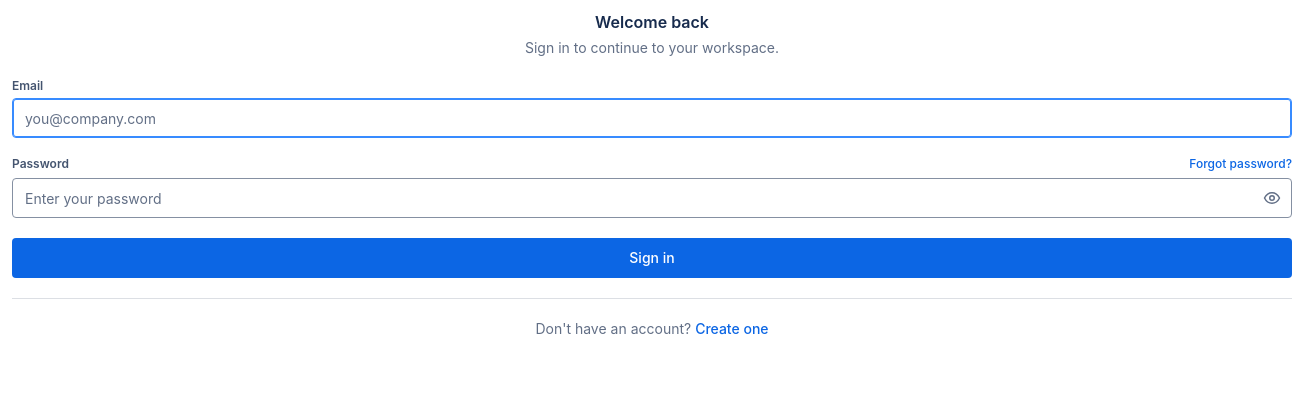
LoginPage › shows the server error and clears the password
Type "ada@example.com" into the field labelled "Email" at (652, 118), box [12,98,1292,138]
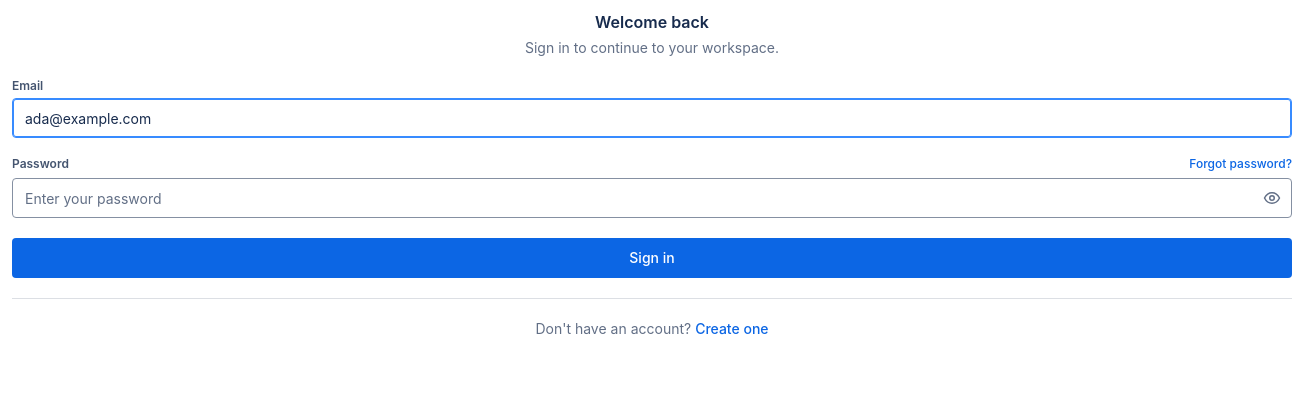
Type "wrong-password1" into the password field labelled "Password" at (652, 198), box [12,178,1292,218]
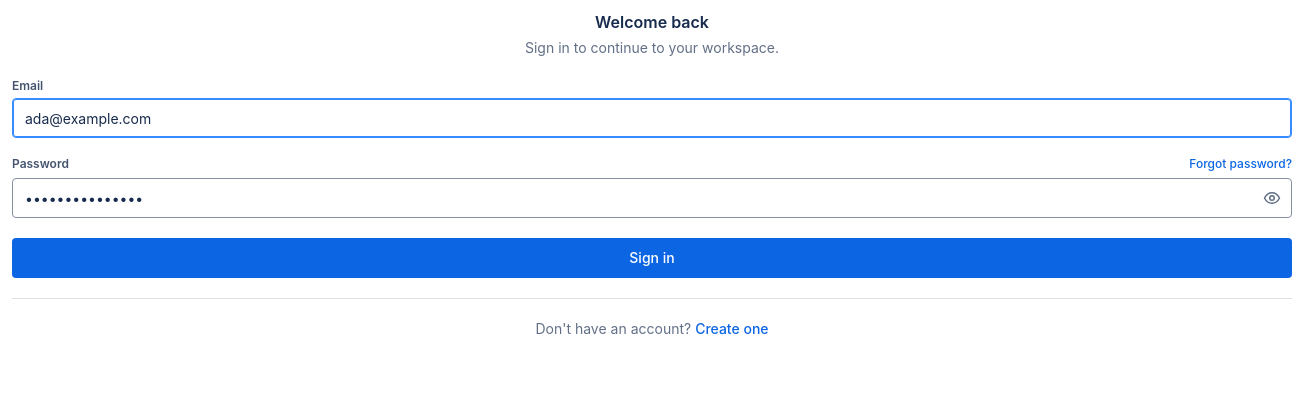
Click the button "Sign in" at (652, 258), box [12,238,1292,278]
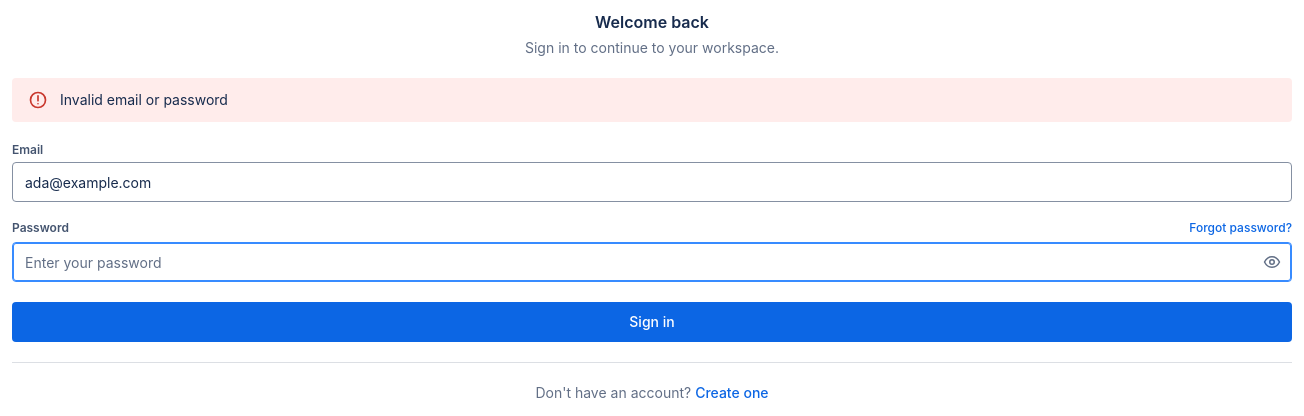
Expected: the message reads "Invalid email or password", [60,91,228,108]
Expected: the password field labelled "Password" is empty, [12,242,1292,282]
